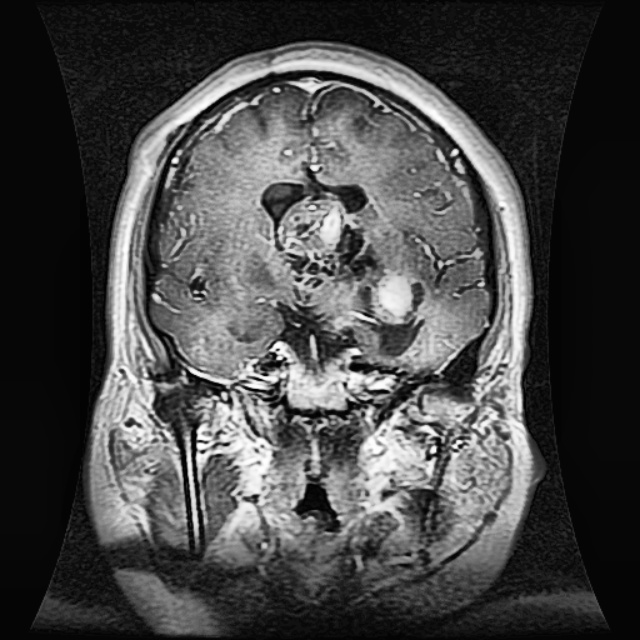Meningioma: (257, 177, 425, 354)
